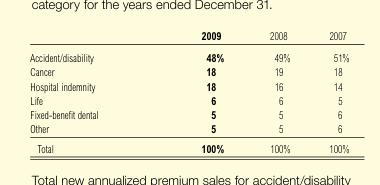table: (29, 29, 349, 154)
table column: (29, 29, 150, 154), (150, 29, 247, 154), (247, 29, 310, 154), (310, 29, 349, 154)
table column header: (29, 29, 349, 46)
table row: (29, 46, 349, 64), (29, 29, 349, 46), (29, 121, 349, 138), (29, 138, 349, 154), (29, 92, 349, 107), (29, 64, 349, 78), (29, 78, 349, 92), (29, 107, 349, 121)
